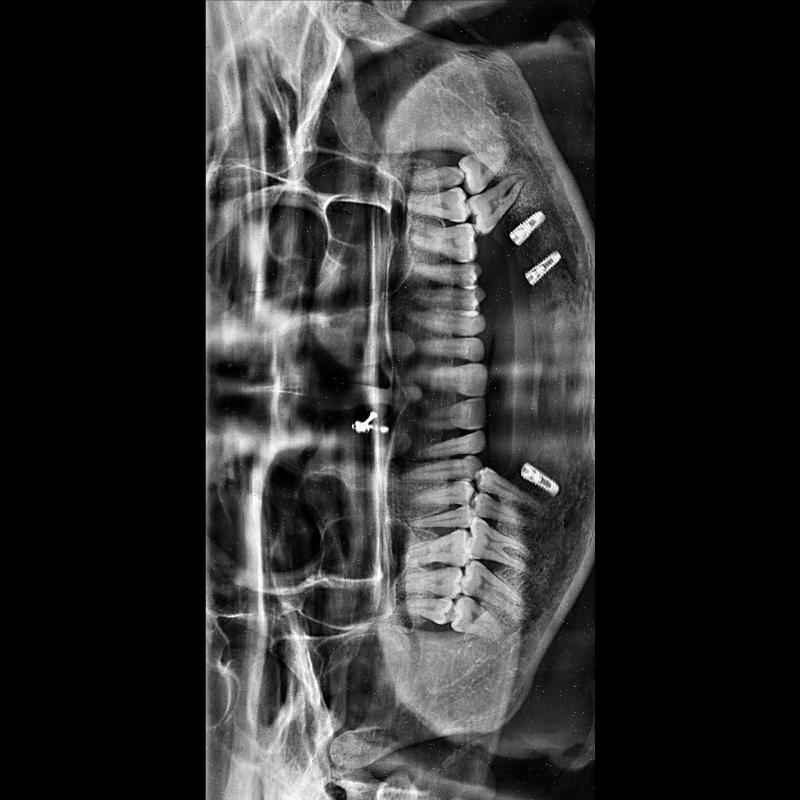osstem: (522, 248, 572, 292), (517, 454, 567, 496), (504, 206, 549, 246)
